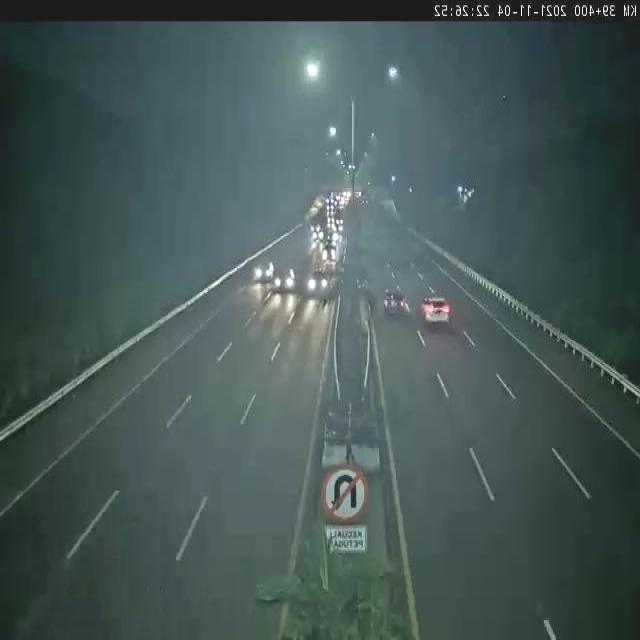Car: (419, 294, 455, 328), (381, 284, 414, 319), (270, 267, 301, 297), (305, 270, 336, 300), (249, 253, 275, 286), (319, 243, 338, 267)
